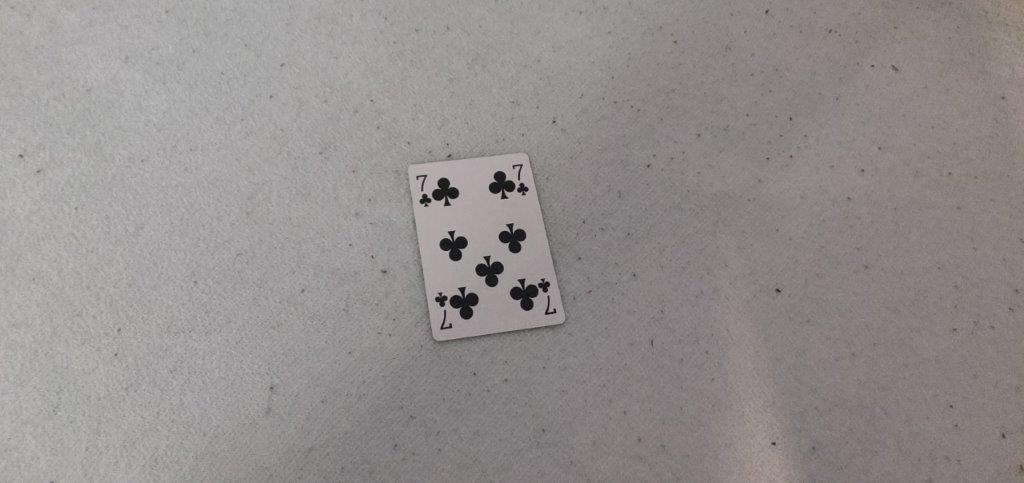7C: (412, 170, 436, 209), (509, 161, 533, 198)
